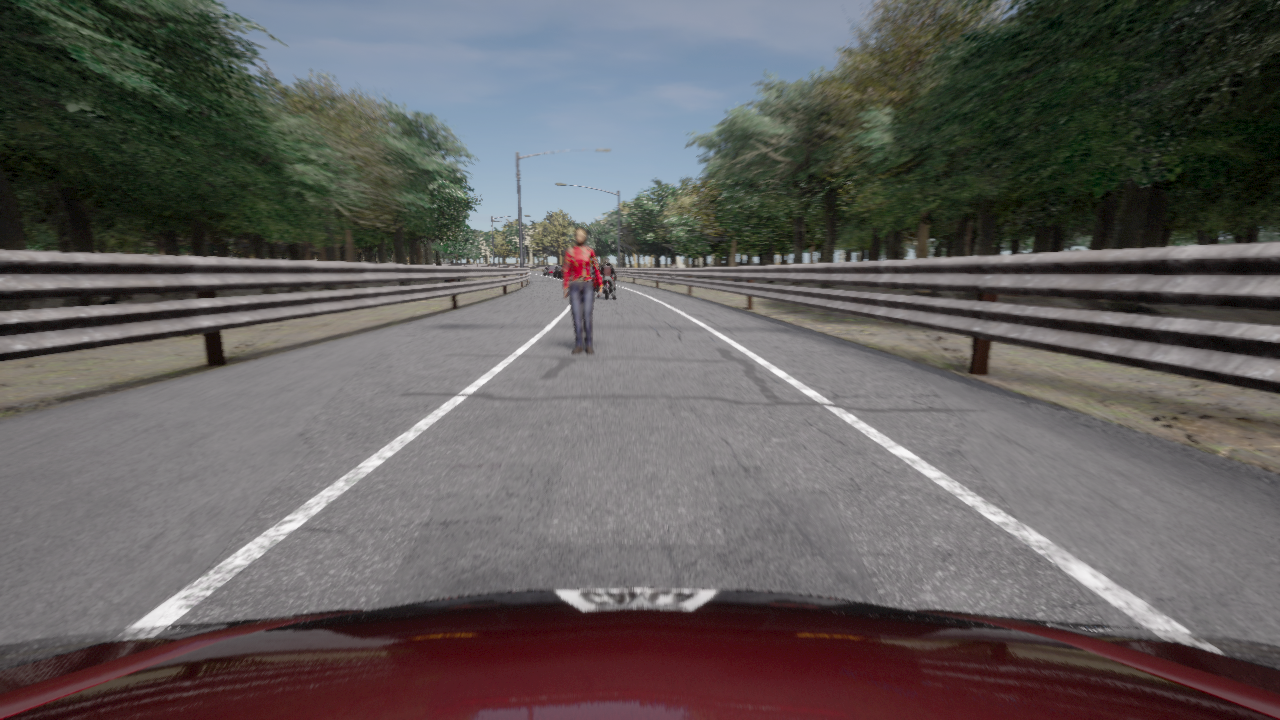cyclist: (0, 588, 1279, 719), (591, 274, 614, 291), (560, 263, 571, 277), (543, 266, 555, 274), (605, 281, 610, 299), (553, 266, 561, 276), (591, 266, 600, 274)
pedestrian: (562, 227, 603, 353), (670, 262, 677, 276)
